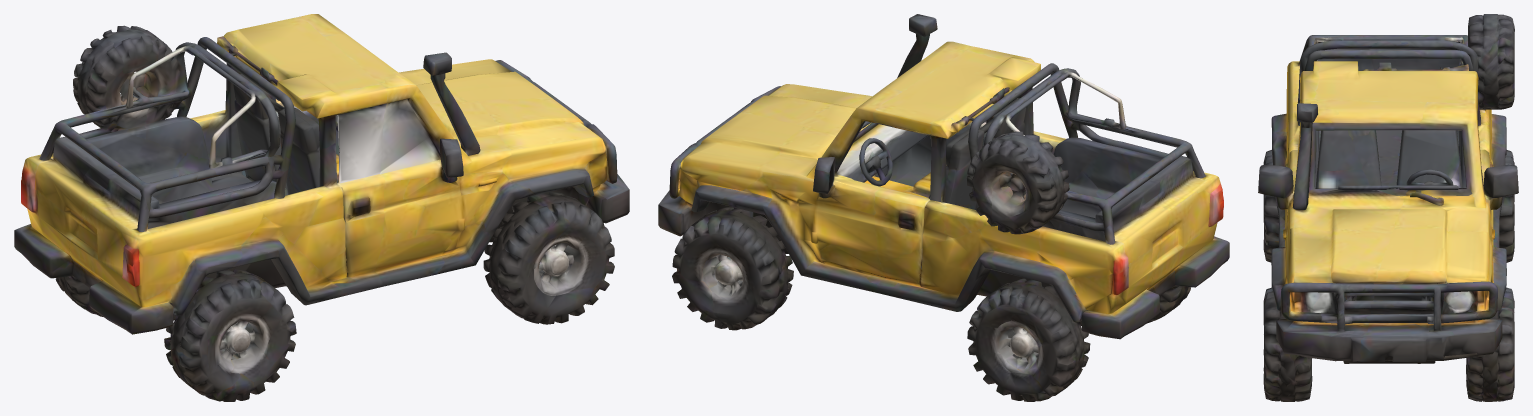
The model's file is jeep.glb.
3 views of the same model, side by side, from view 1: azimuth 30°, elevation 25°; view 2: azimuth 150°, elevation 25°; view 3: azimuth 270°, elevation 25° (orthographic). The views are drawn at different scales.
Visible parts, largest first — view 1: tripo_node_4db518cb-a3a0-4cf9-97ca-2dacec522f25; view 2: tripo_node_4db518cb-a3a0-4cf9-97ca-2dacec522f25; view 3: tripo_node_4db518cb-a3a0-4cf9-97ca-2dacec522f25.
Part boxes in pixels (bbox=[...]): tripo_node_4db518cb-a3a0-4cf9-97ca-2dacec522f25: bbox=[14, 14, 629, 401]; tripo_node_4db518cb-a3a0-4cf9-97ca-2dacec522f25: bbox=[658, 14, 1229, 401]; tripo_node_4db518cb-a3a0-4cf9-97ca-2dacec522f25: bbox=[1258, 14, 1518, 401].
Bounding box in the file's own units: 0.9997 × 0.5109 × 0.4911.
Materials: 1 (1 with a texture image).
